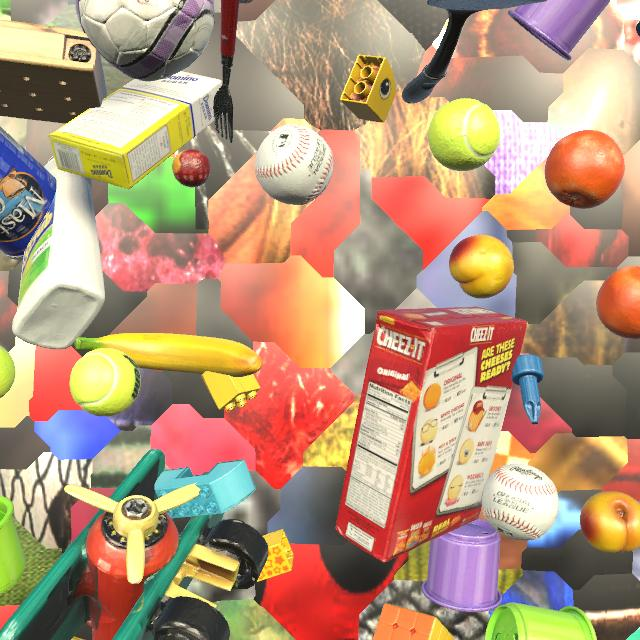ycb_002_master_chef_can: (0, 127, 57, 260)
ycb_003_cracker_box: (335, 306, 528, 563)
ycb_004_sugar_box: (48, 71, 223, 189)
ycb_011_banana: (75, 333, 262, 377)
ycb_015_peach: (449, 235, 514, 299), (580, 491, 640, 553)
ycb_017_orange: (545, 130, 625, 209), (596, 266, 640, 339)
